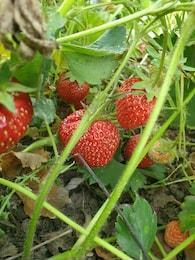Fresa: (54, 105, 122, 169), (112, 75, 165, 132)
